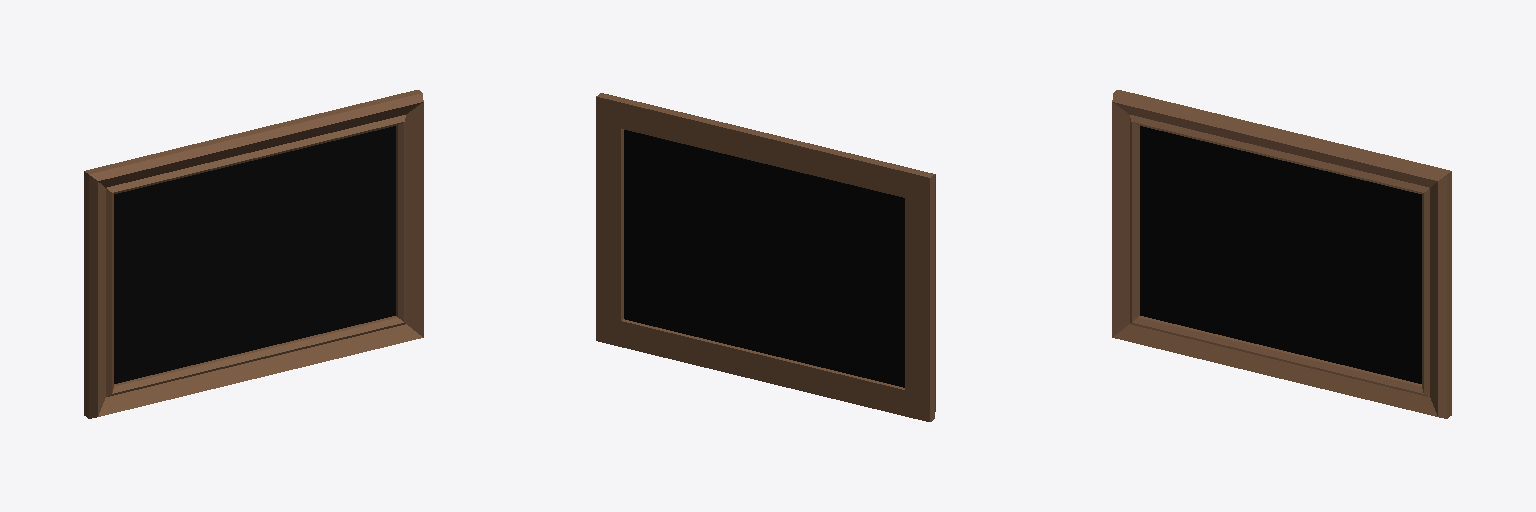
The model's file is Prop_Misc_Picture_Landscape.obj.
3 views of the same model, side by side, from view 1: azimuth 30°, elevation 25°; view 2: azimuth 150°, elevation 25°; view 3: azimuth 330°, elevation 25° (orthographic).
Visible parts, largest first — view 1: object1, object2; view 2: object1, object2; view 3: object1, object2.
Boxes of the visible parts, <box> form: object1: <box>114,126,395,383</box>; object2: <box>84,90,423,418</box>; object1: <box>624,130,904,387</box>; object2: <box>596,93,935,421</box>; object1: <box>1140,126,1421,383</box>; object2: <box>1112,90,1451,418</box>.
Bounding box in the file's own units: 1 × 0.7 × 0.05.